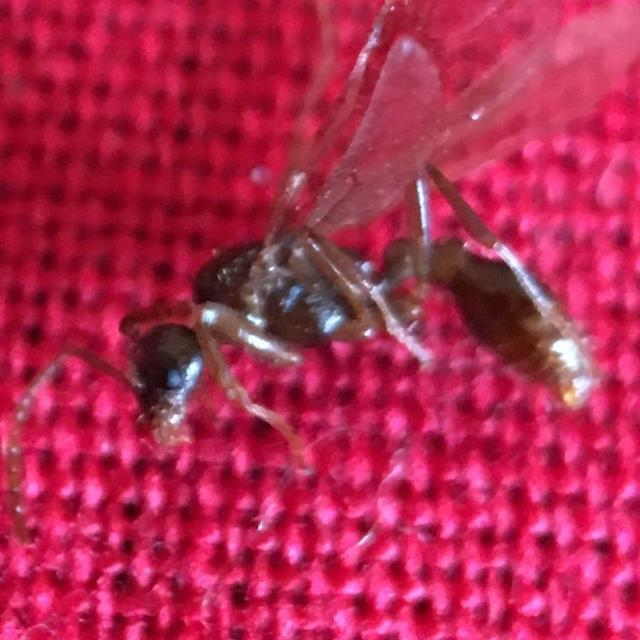Myrmica: (44, 77, 598, 510)
